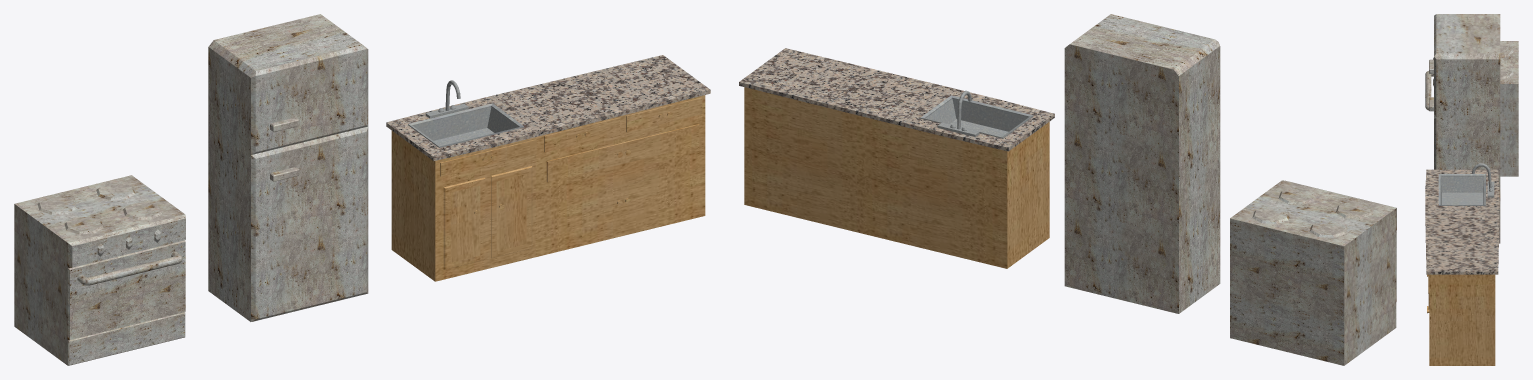
The model's file is kitchen_props.glb.
3 views of the same model, side by side, from view 1: azimuth 30°, elevation 25°; view 2: azimuth 150°, elevation 25°; view 3: azimuth 270°, elevation 25° (orthographic). The views are drawn at different scales.
Visible parts, largest first — view 1: encimera, freezer, gas_stove; view 2: encimera, freezer, gas_stove; view 3: encimera, freezer, gas_stove.
Part boxes in pixels (x1,y1,x2,y2): encimera: [386, 55, 710, 281]; freezer: [208, 14, 368, 321]; gas_stove: [14, 175, 185, 365]; encimera: [739, 48, 1054, 268]; freezer: [1064, 14, 1220, 313]; gas_stove: [1230, 180, 1396, 365]; encimera: [1425, 163, 1499, 365]; freezer: [1429, 14, 1500, 243]; gas_stove: [1425, 41, 1518, 176].
Bounding box in the file's own units: 10.82 × 4.07 × 1.83.
4 materials, 4 textured.
